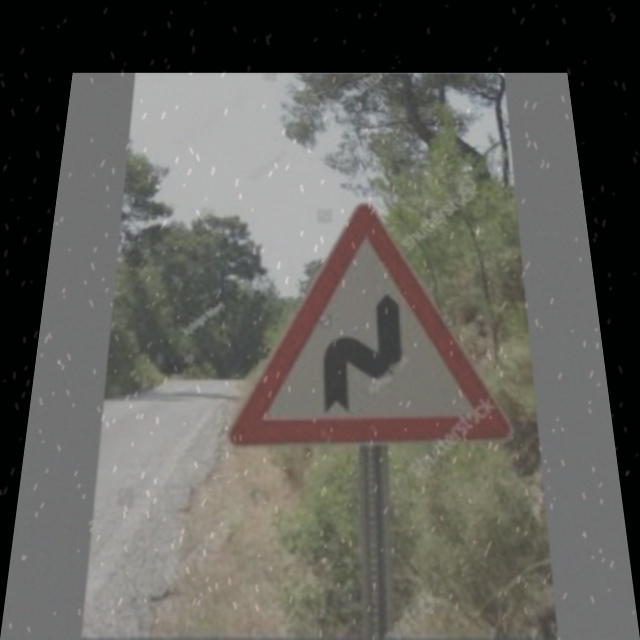Right_Reverse_Bend: (255, 220, 502, 438)
